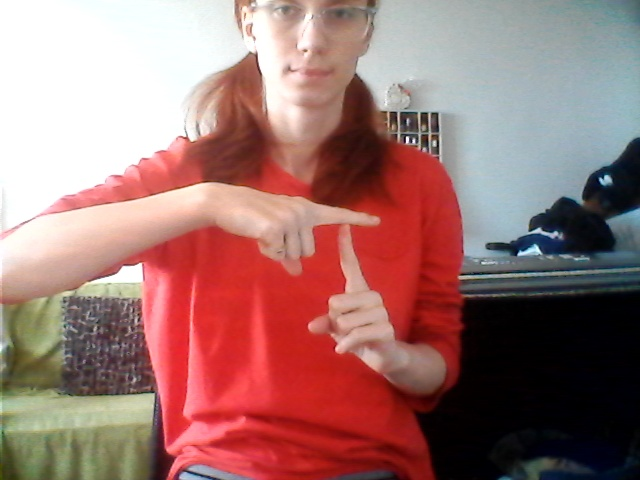t: (262, 187, 402, 385)
